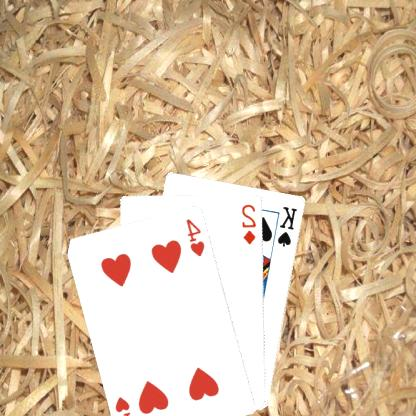2D: (241, 201, 260, 246)
4H: (185, 216, 208, 258), (115, 393, 137, 416)
KS: (277, 203, 301, 248)
